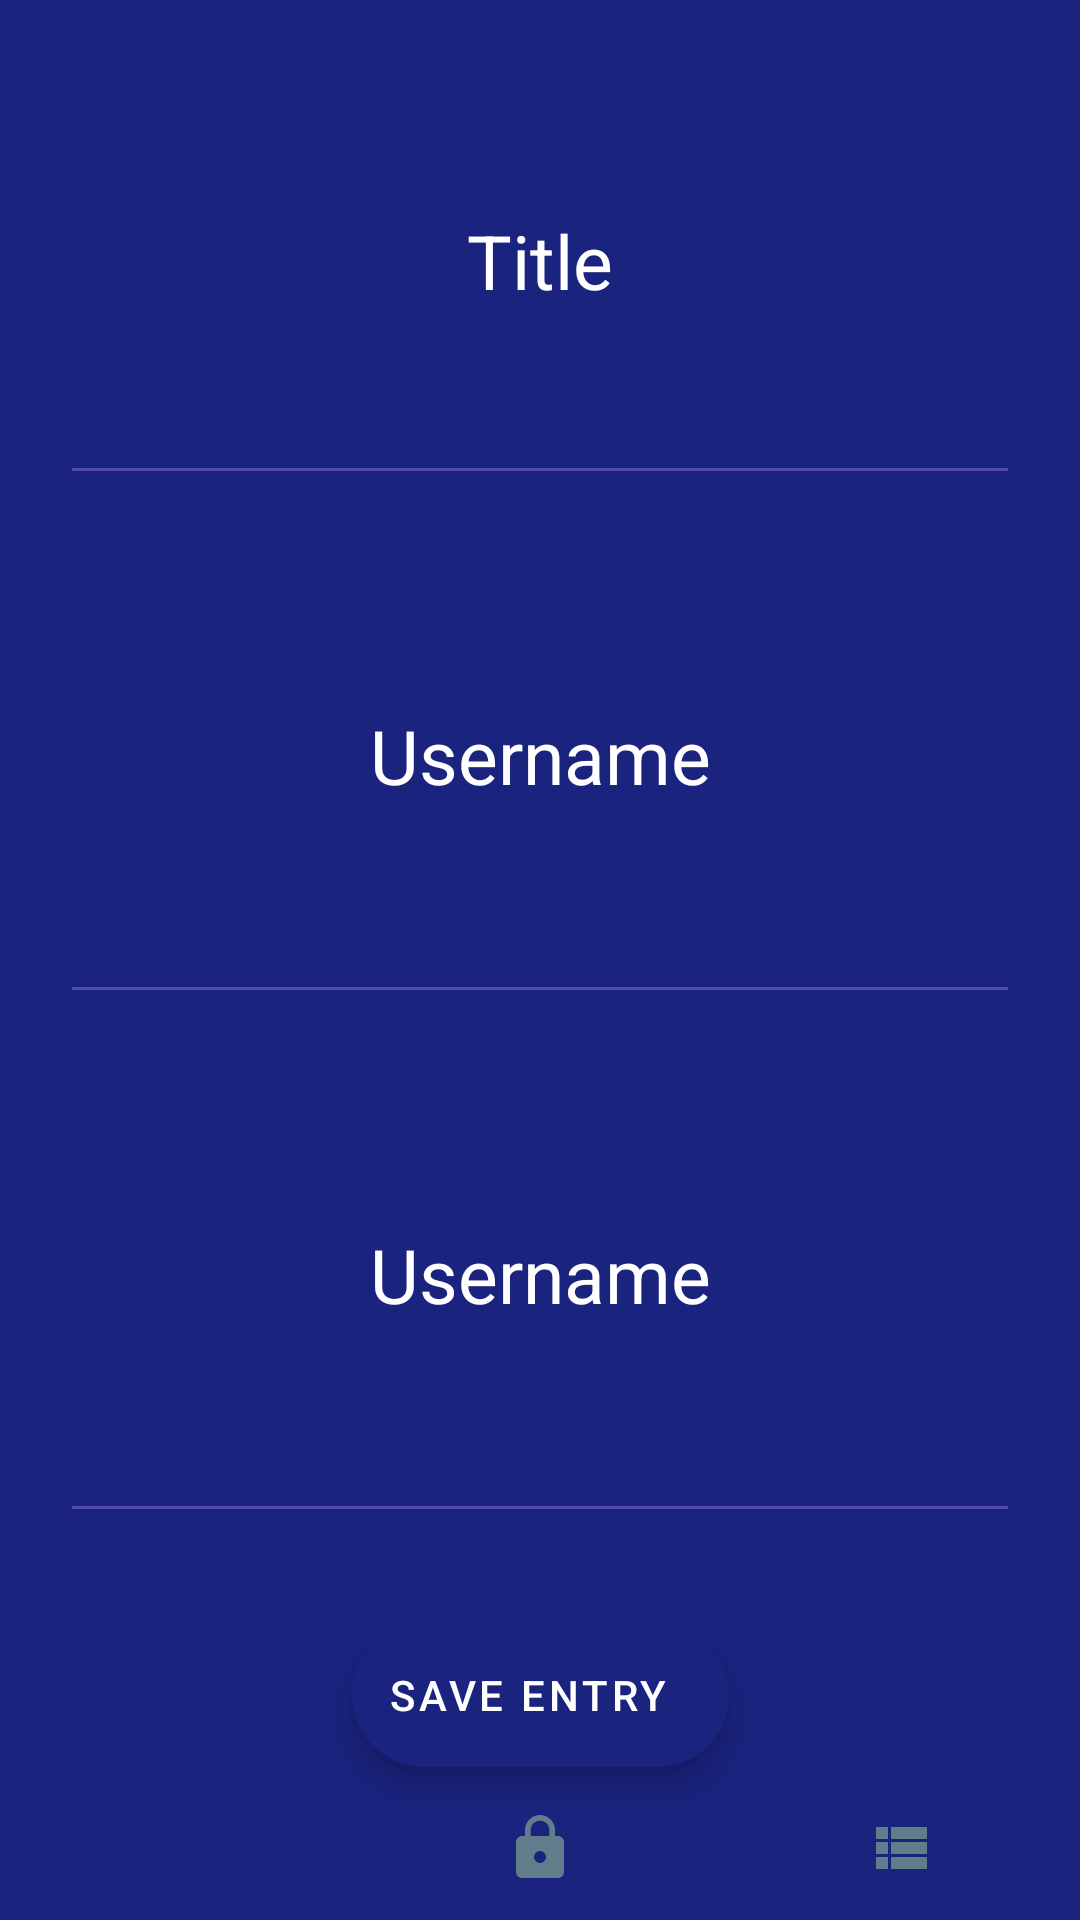

Named icons in this screenshot (1080w x 1920h) and their bounding boxes, box=[x1, y1, x2, y2]:
lock: box=[516, 1815, 564, 1878]
view list: box=[876, 1827, 927, 1869]
